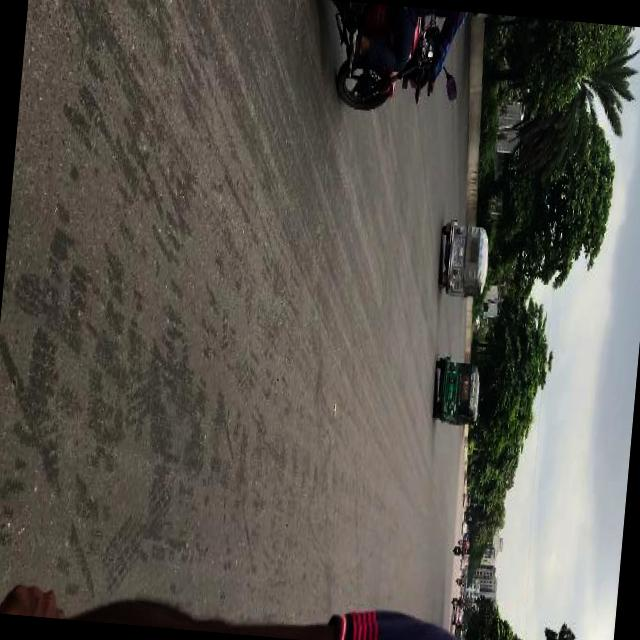car: (451, 608, 464, 627), (462, 524, 468, 536)
motorcycle: (322, 4, 465, 123), (434, 216, 492, 302), (429, 356, 482, 428), (452, 548, 466, 559), (450, 599, 464, 609), (456, 539, 466, 547), (456, 580, 464, 586)
truck: (461, 495, 470, 510)
